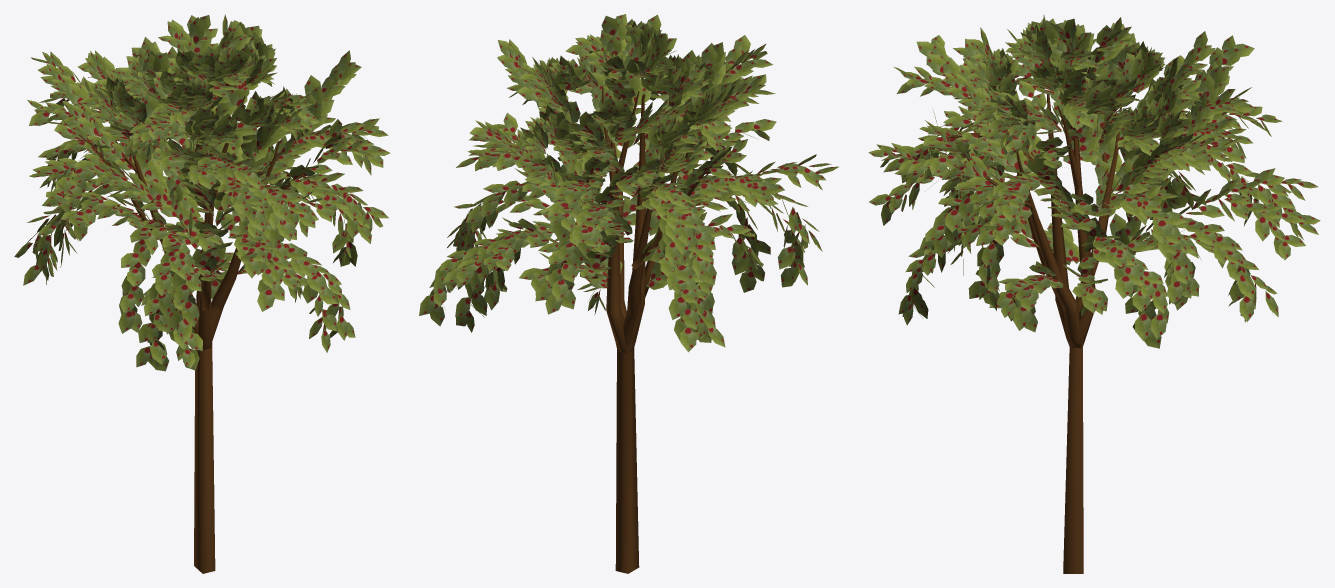
The model's file is Arbol con textura.fbx.
The picture shows the model from 3 angles, left to right: view 1: azimuth 30°, elevation 25°; view 2: azimuth 150°, elevation 25°; view 3: azimuth 270°, elevation 25°; orthographic projection. The views are drawn at different scales.
Visible parts, largest first — view 1: Arbol; view 2: Arbol; view 3: Arbol.
Part boxes in pixels (<box>): Arbol: <box>14,14,390,573</box>; Arbol: <box>419,14,838,573</box>; Arbol: <box>868,14,1320,573</box>.
Size of the model in its own units: 536 by 849 by 619.
